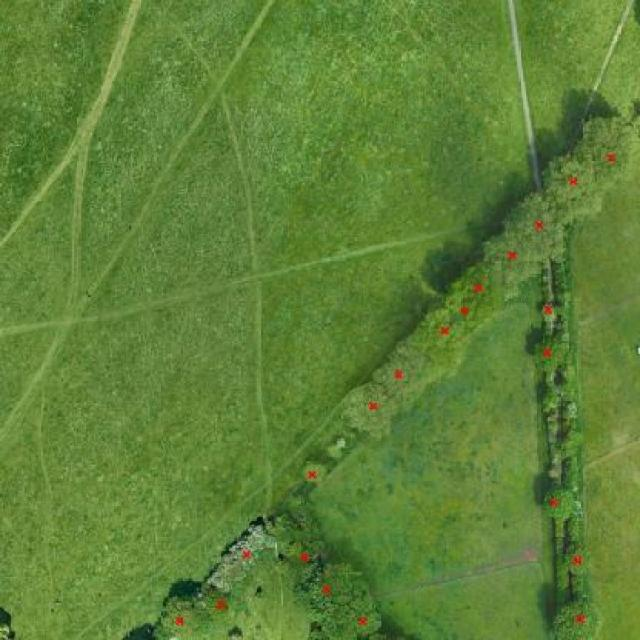tree: (368, 335, 466, 410), (202, 512, 281, 597), (500, 188, 577, 274), (572, 106, 639, 200), (398, 298, 478, 376), (295, 555, 377, 620), (536, 149, 604, 225), (469, 232, 542, 297), (337, 377, 401, 449), (317, 595, 389, 640), (455, 263, 514, 315), (150, 591, 212, 640), (545, 592, 607, 640), (524, 330, 578, 382), (442, 287, 484, 350), (537, 480, 581, 528), (296, 452, 333, 494), (199, 587, 235, 628), (560, 541, 595, 582), (288, 541, 320, 573), (534, 296, 564, 330), (562, 398, 583, 427), (0, 612, 14, 638)
